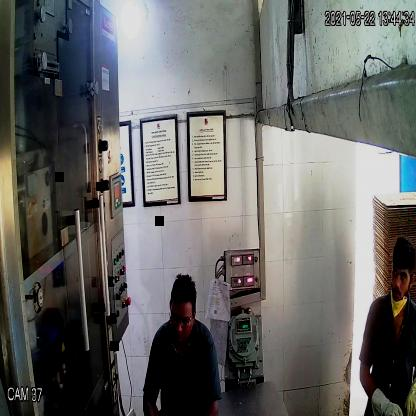goggles: (169, 309, 196, 332)
no_goggles: (391, 267, 413, 286)
